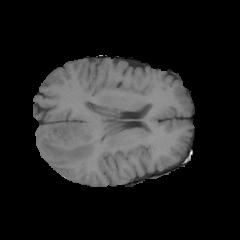glioma: (42, 122, 103, 165)
